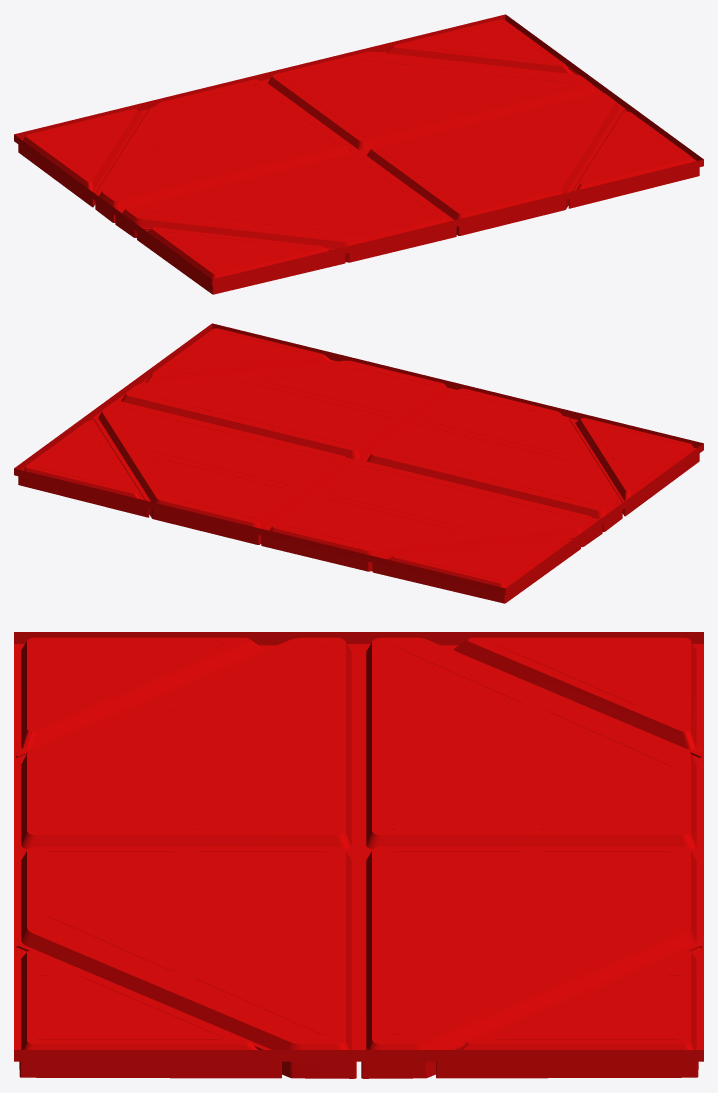
The model's file is Ceiling_12.fbx.
The picture shows the model from 3 angles, top to bottom: view 1: azimuth 30°, elevation 25°; view 2: azimuth 150°, elevation 25°; view 3: azimuth 270°, elevation 25°; orthographic projection. The views are drawn at different scales.
Parts seen in each view (by area): view 1: L5:polySurface2496; view 2: L5:polySurface2496; view 3: L5:polySurface2496.
Part boxes in pixels (bbox=[...]): L5:polySurface2496: bbox=[14, 14, 703, 294]; L5:polySurface2496: bbox=[14, 323, 703, 603]; L5:polySurface2496: bbox=[14, 632, 703, 1078].
Bounding box in the file's own units: 1208 × 40.57 × 843.
